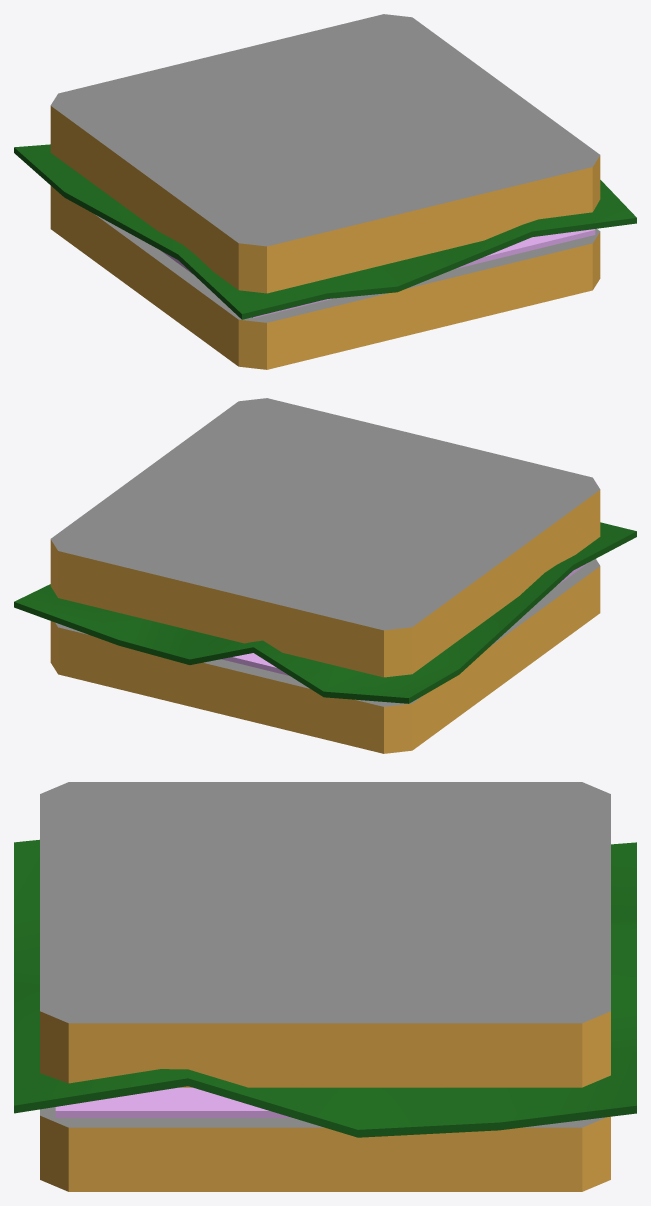
File: sandwitch.obj
3 views of the same model, one above another, from view 1: azimuth 30°, elevation 25°; view 2: azimuth 150°, elevation 25°; view 3: azimuth 270°, elevation 25° (orthographic). The views are drawn at different scales.
Visible parts, largest first — view 1: group1 pCube3, pCube1 group1, group1 pCube2, group1 pCube4; view 2: group1 pCube3, pCube1 group1, group1 pCube2, group1 pCube4; view 3: group1 pCube3, pCube1 group1, group1 pCube2, group1 pCube4.
Part boxes in pixels (x1,y1,x2,y2): group1 pCube3: [50, 14, 600, 293]; pCube1 group1: [50, 186, 600, 369]; group1 pCube2: [14, 144, 636, 319]; group1 pCube4: [161, 229, 595, 318]; group1 pCube3: [50, 398, 600, 677]; pCube1 group1: [50, 559, 600, 753]; group1 pCube2: [14, 522, 636, 703]; group1 pCube4: [221, 562, 588, 675]; group1 pCube3: [40, 782, 610, 1087]; pCube1 group1: [40, 1107, 610, 1191]; group1 pCube2: [14, 839, 636, 1137]; group1 pCube4: [55, 1087, 291, 1117].
Bounding box in the file's own units: 14.44 × 4.31 × 14.44.
